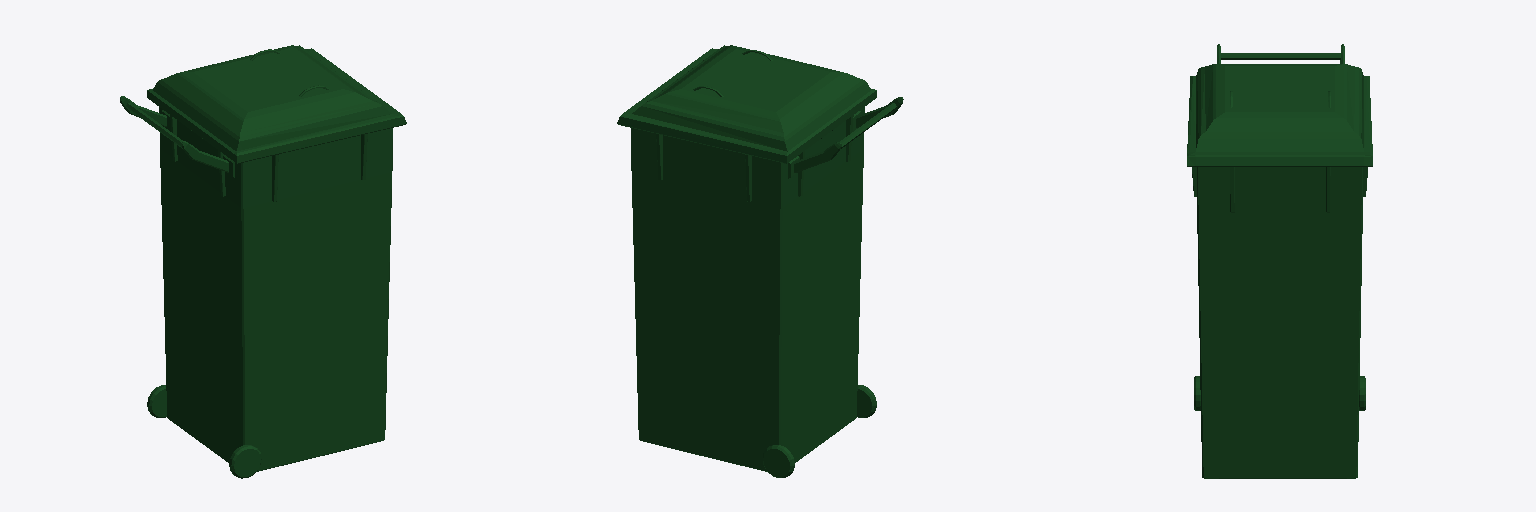
File: basurero.obj
3 views of the same model, side by side, from view 1: azimuth 30°, elevation 25°; view 2: azimuth 150°, elevation 25°; view 3: azimuth 270°, elevation 25° (orthographic).
Visible parts, largest first — view 1: TrashCan_Original; view 2: TrashCan_Original; view 3: TrashCan_Original.
Part boxes in pixels (left/top/right/bottom): TrashCan_Original: left=120, top=45, right=406, bottom=478; TrashCan_Original: left=617, top=45, right=903, bottom=477; TrashCan_Original: left=1187, top=44, right=1372, bottom=478.
Size of the model in its own units: 2.29 by 3.73 by 1.76.